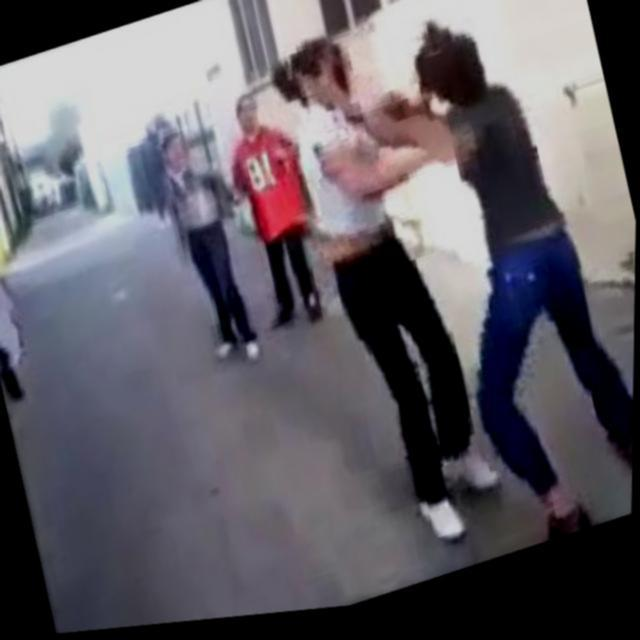fight: (255, 0, 640, 610)
